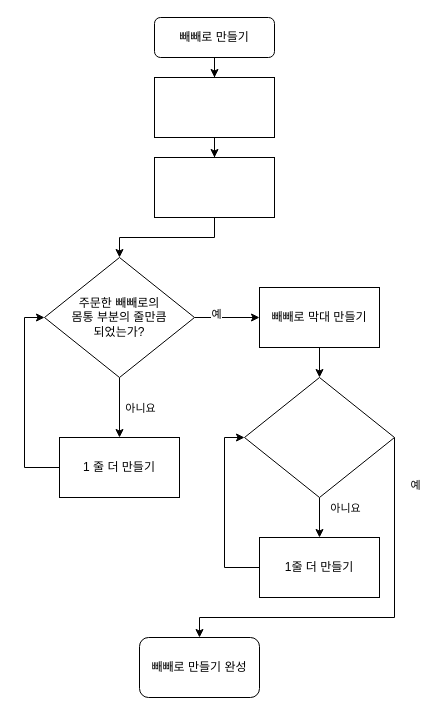
Some shapes in this 437 by 715 pixel diagram are drawn without their labels. The box of each missing label's shape, as (x1, y1, x2, y2) in pixels:
빼빼로 몸통 만들기: (154, 156, 274, 218)
빼빼로 주문: (154, 76, 274, 138)
주문한 빼빼로의 막대 부분의 줄만큼 되었는가?: (244, 376, 394, 498)
